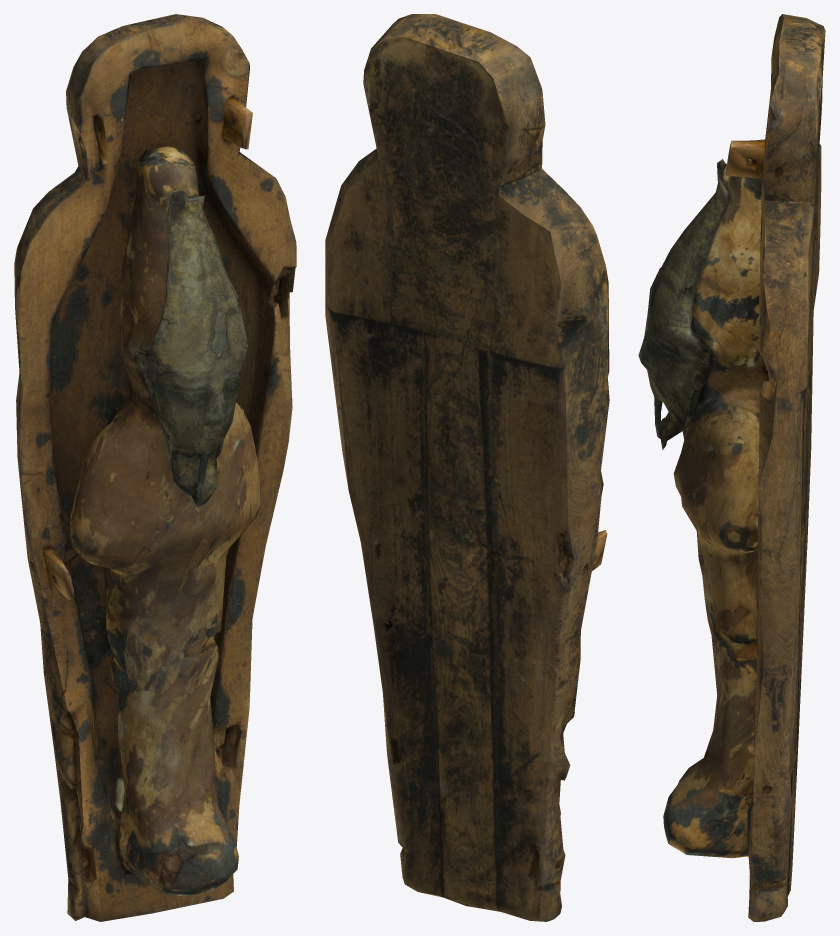
File: Mummy_With_Mask_Of_Osiris_Body.fbx
3 views of the same model, side by side, from view 1: azimuth 30°, elevation 25°; view 2: azimuth 150°, elevation 25°; view 3: azimuth 270°, elevation 25° (orthographic). The views are drawn at different scales.
Visible parts, largest first — view 1: Mummy_With_Mask_Of_Osiris_Body_LOD0; view 2: Mummy_With_Mask_Of_Osiris_Body_LOD0; view 3: Mummy_With_Mask_Of_Osiris_Body_LOD0.
Part boxes in pixels (bbox=[...]): Mummy_With_Mask_Of_Osiris_Body_LOD0: bbox=[14, 14, 296, 921]; Mummy_With_Mask_Of_Osiris_Body_LOD0: bbox=[325, 14, 609, 921]; Mummy_With_Mask_Of_Osiris_Body_LOD0: bbox=[638, 14, 825, 921].
Size of what is drawn, in the model's own units: 77.94 by 238 by 46.71.
